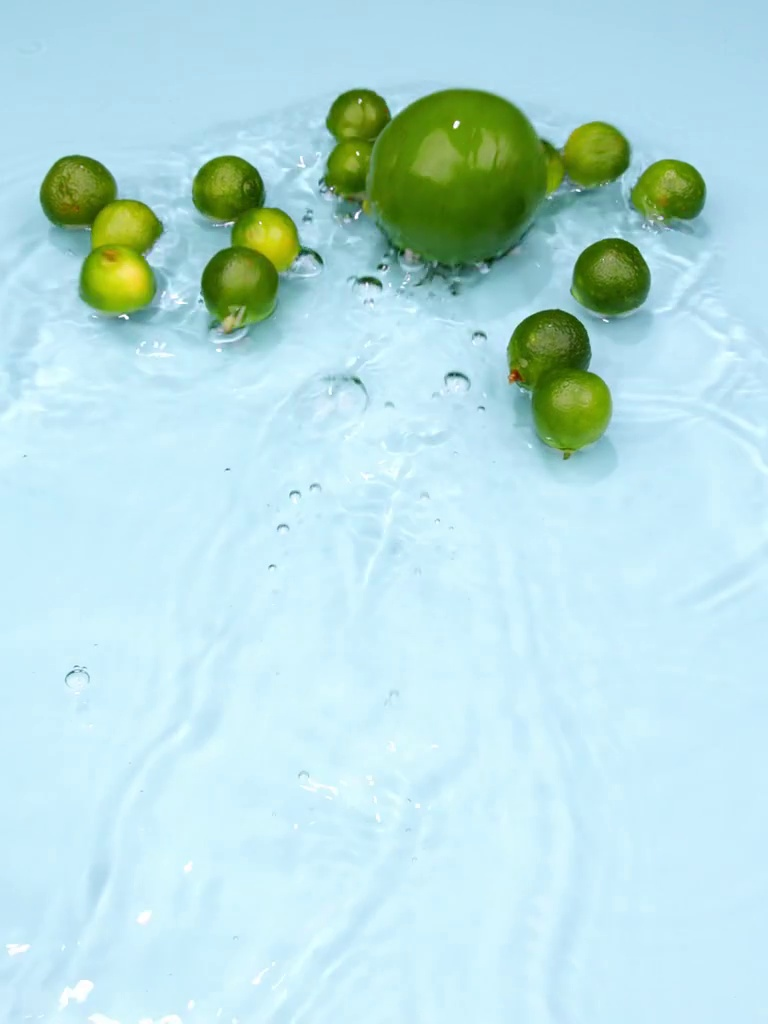Orange: (368, 88, 542, 260)
